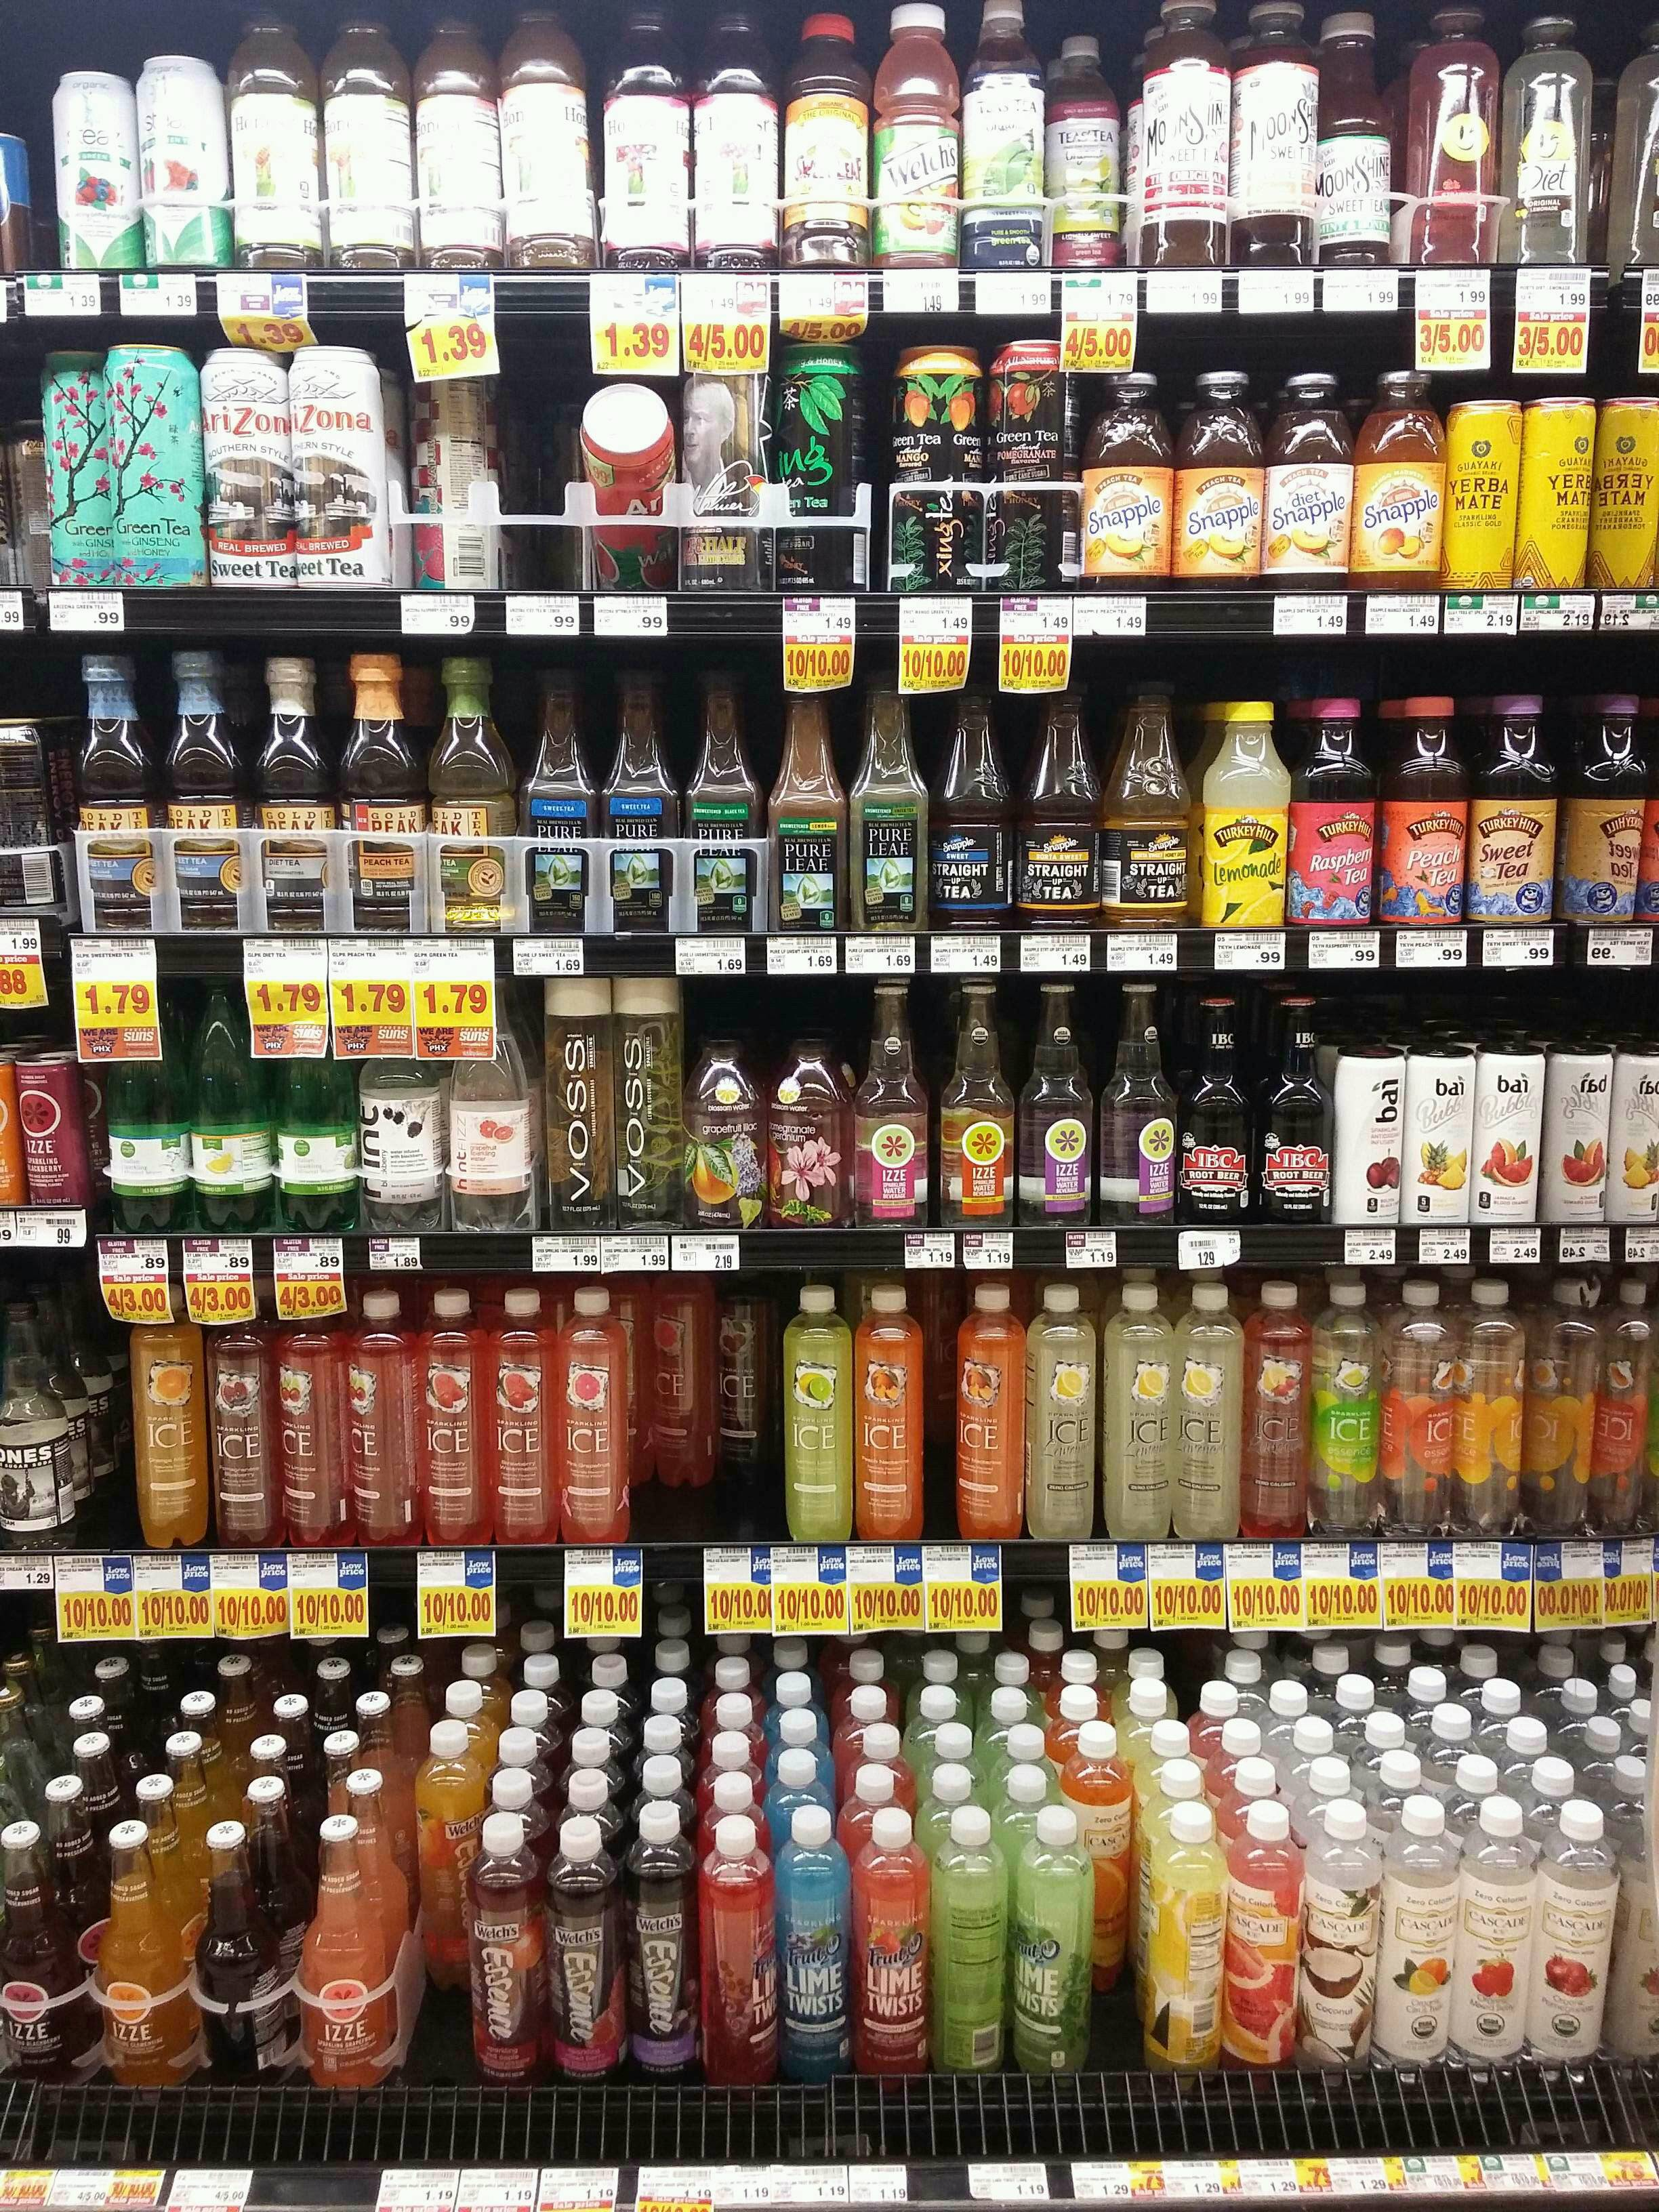Misplacement: (632, 1271, 717, 1540)
